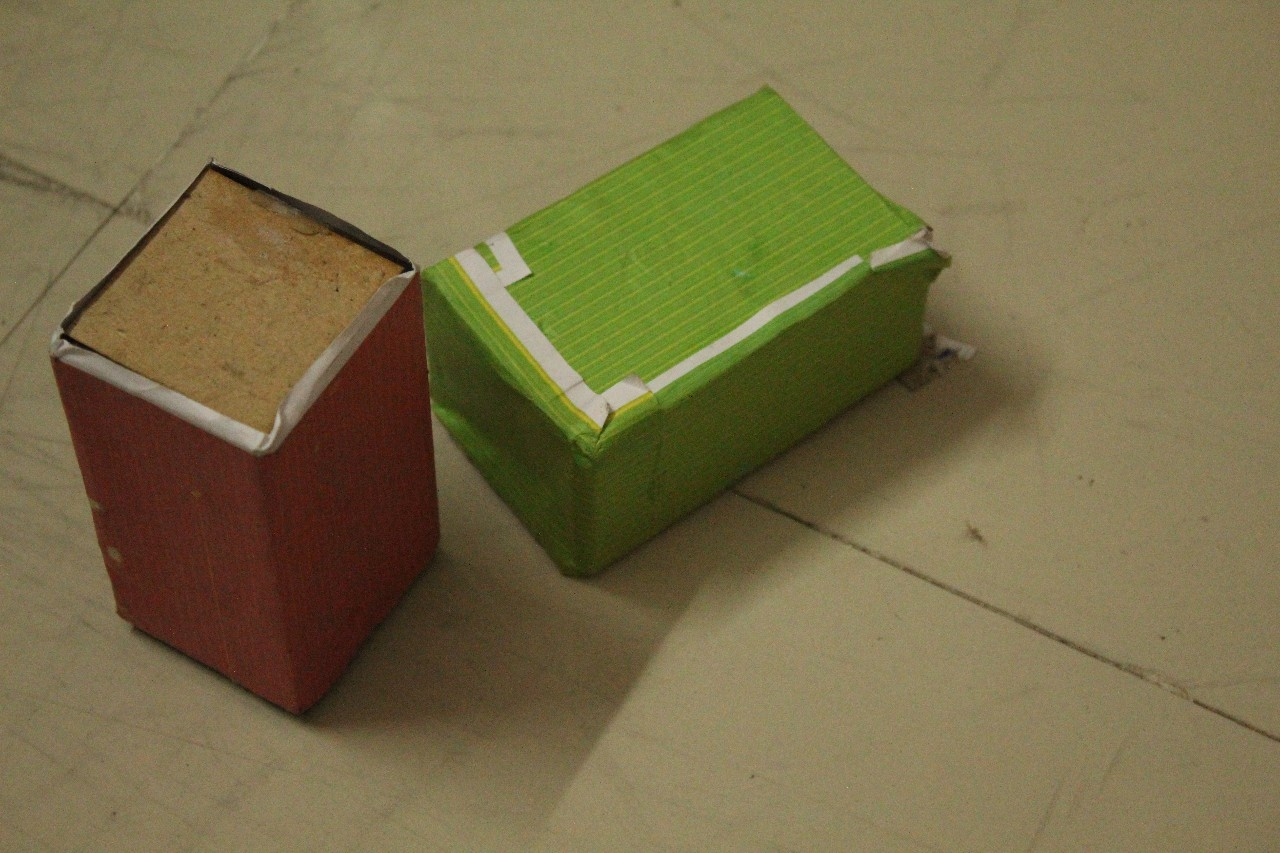green: (395, 62, 971, 595)
